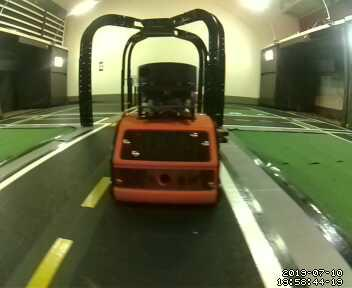pheeno: (111, 57, 221, 214)
